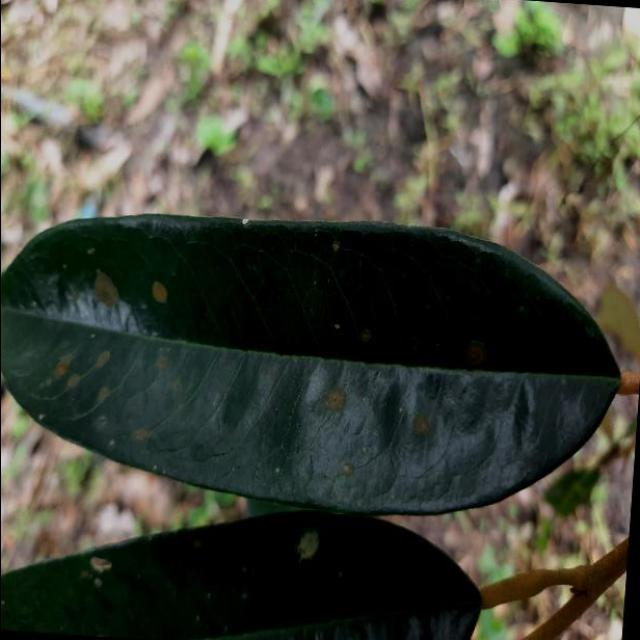Algal Leaf Spot: (0, 188, 632, 539)
